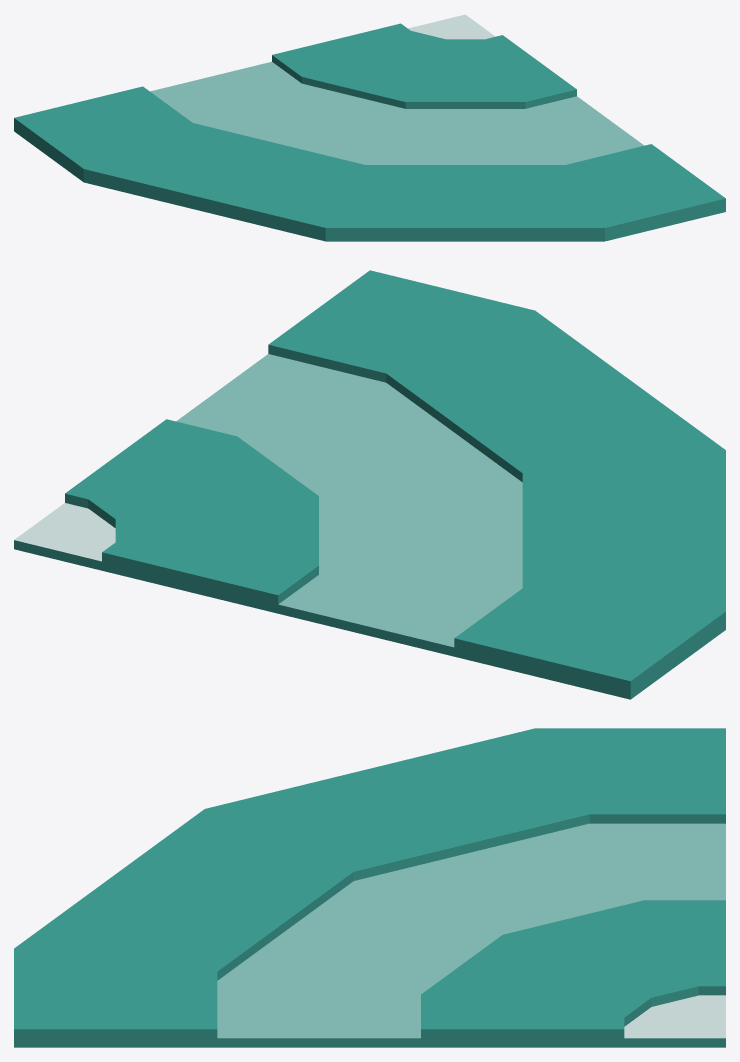
Rendered from Prop_Rug_Corner_Outer.fbx.
3 renders of one model, top to bottom at view 1: azimuth 30°, elevation 25°; view 2: azimuth 150°, elevation 25°; view 3: azimuth 270°, elevation 25°, orthographic. The views are drawn at different scales.
Visible parts, largest first — view 1: object1; view 2: object1; view 3: object1.
Boxes of the visible parts, <box> form: object1: <box>14,14,725,241</box>; object1: <box>14,270,725,699</box>; object1: <box>14,728,725,1047</box>.
Size of the model in its own units: 0.35 by 0.01 by 0.35.
